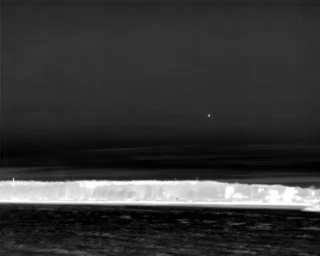HELICOPTER: (205, 111, 213, 121)
